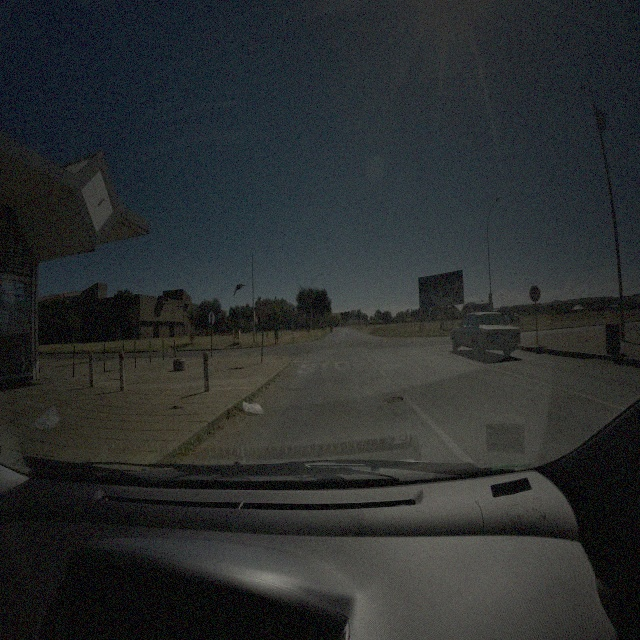pothole: (383, 394, 404, 406)
